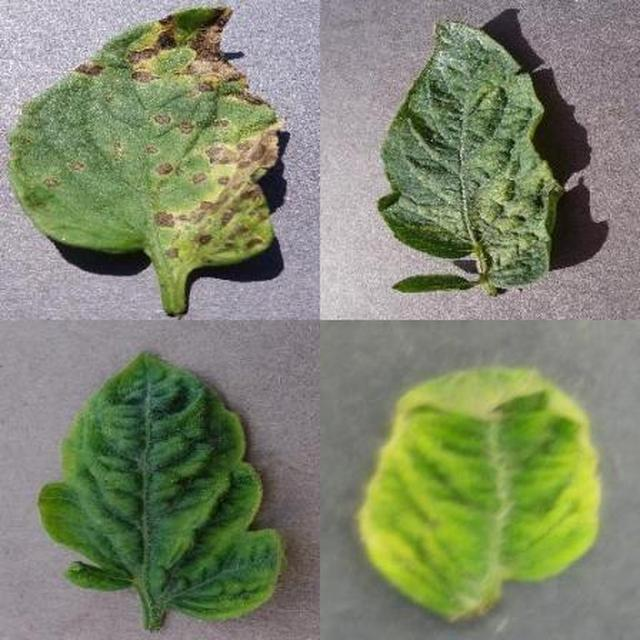Septoria Leaf: (207, 197, 640, 640)
